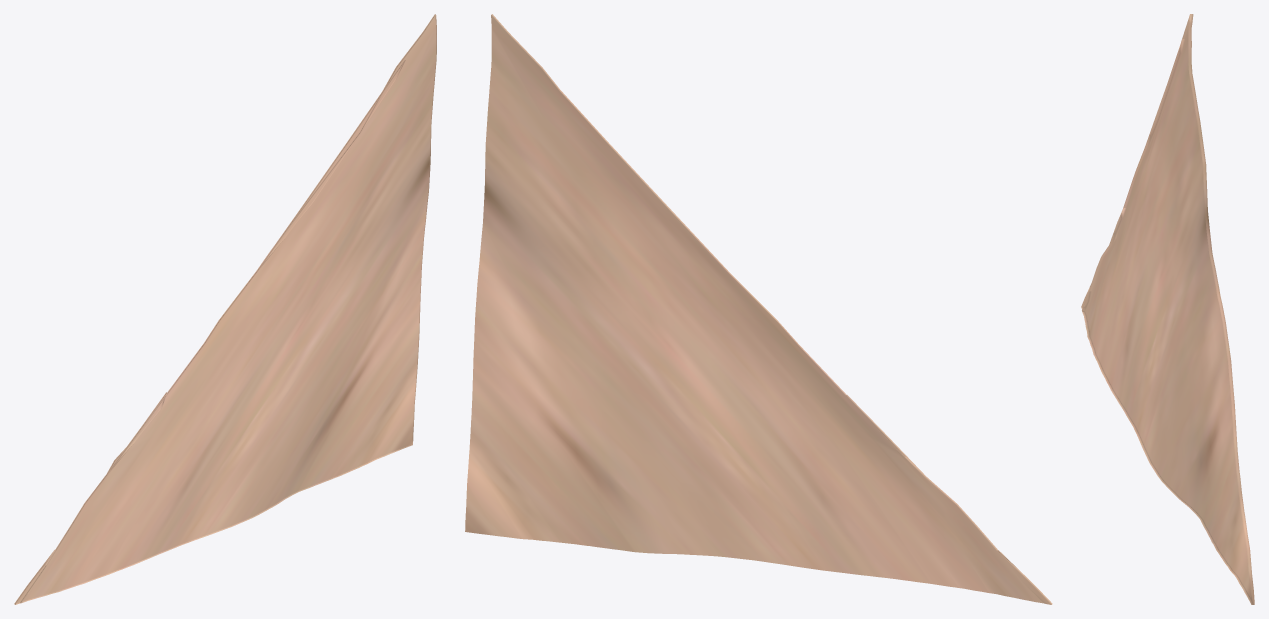
3 views of the same model, side by side, from view 1: azimuth 30°, elevation 25°; view 2: azimuth 150°, elevation 25°; view 3: azimuth 270°, elevation 25° (orthographic). The views are drawn at different scales.
Bounding box in the file's own units: 6.75 × 6.24 × 1.66.
Materials: 1 (1 with a texture image).
